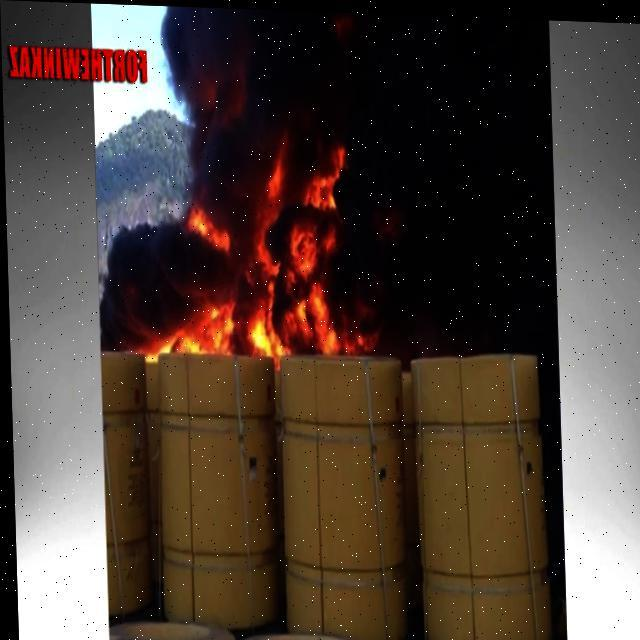Fire: (130, 134, 380, 364)
